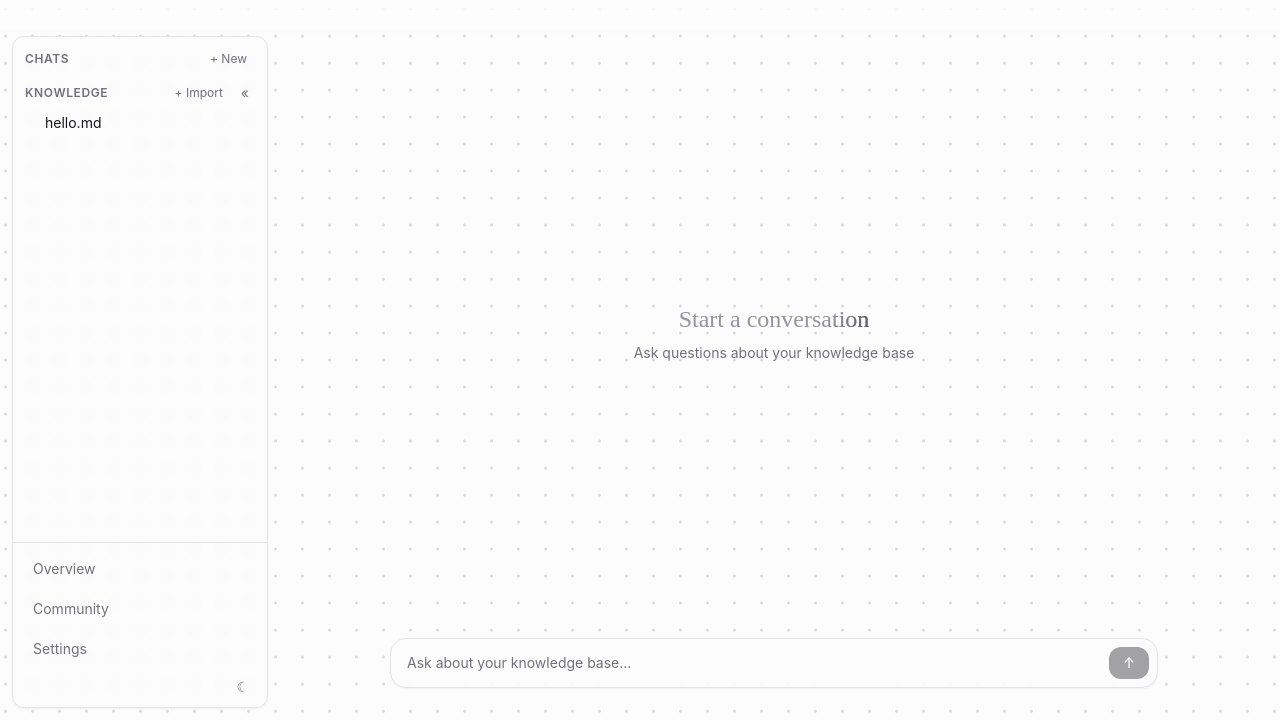
it: FileTree click → editor view wiring › settings view still works when editor was open
# Open editor
Click the text "hello.md" at (73, 123), box [45,113,102,133]
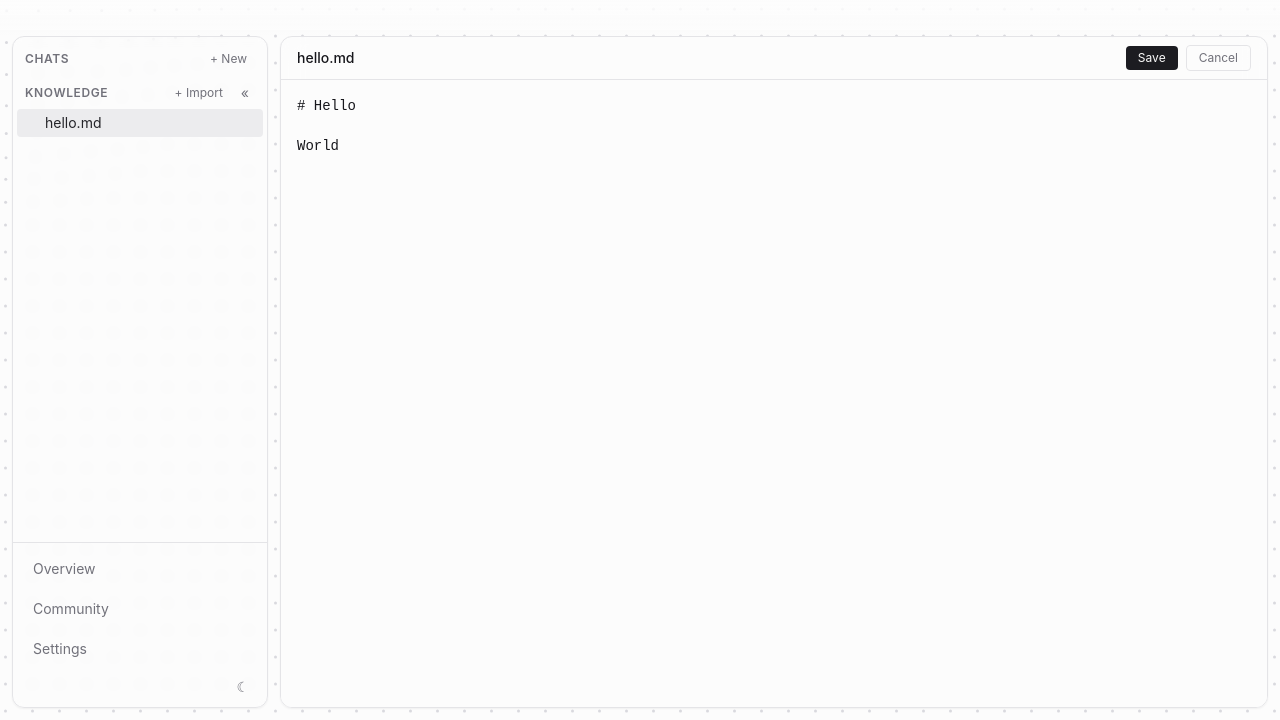
Check: the element with test id "markdown-editor" is shown
# Switch to settings
Click the button with test id "settings-button" at (140, 649), box [21,631,259,667]
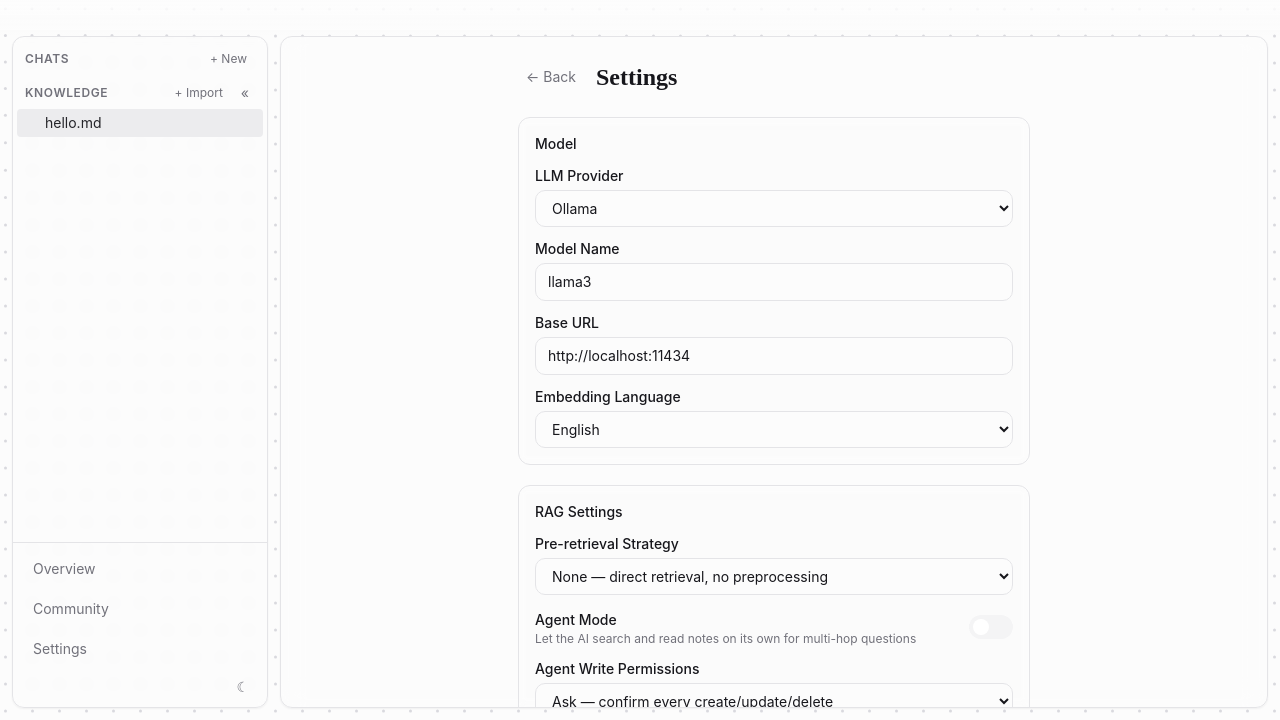
Check: the element with test id "settings-page" is shown, box [518,63,1030,708]
Check: the element with test id "markdown-editor" is gone
